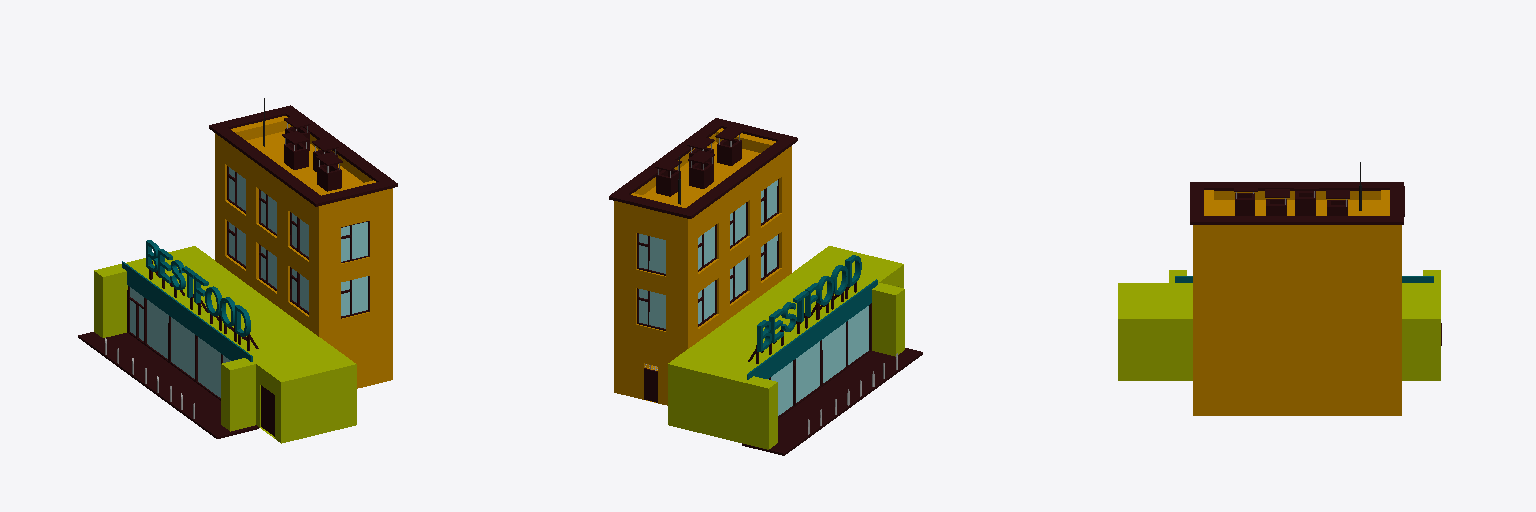
The model's file is comida.obj.
3 renders of one model, left to right at view 1: azimuth 30°, elevation 25°; view 2: azimuth 150°, elevation 25°; view 3: azimuth 270°, elevation 25°, orthographic.
Parts seen in each view (by area): view 1: Box001, Box002, Box082, Plane009, Text001, Box078, Box050, Box051, Box079, Plane010, Plane011, Box052 (+4 smaller); view 2: Box001, Box002, Box082, Plane009, Text001, Box078, Box050, Box051, Plane008, Plane007, Box079, Box053 (+3 smaller); view 3: Box001, Box002, Box051, Box050.
Boxes of the visible parts, x1=… form: Box001: x1=215, y1=116, x2=392, y2=388; Box002: x1=94, y1=246, x2=356, y2=443; Box082: x1=78, y1=332, x2=258, y2=438; Plane009: x1=130, y1=287, x2=230, y2=397; Text001: x1=146, y1=240, x2=250, y2=336; Box078: x1=122, y1=261, x2=252, y2=361; Box050: x1=209, y1=123, x2=325, y2=206; Box051: x1=280, y1=105, x2=397, y2=187; Box079: x1=127, y1=286, x2=222, y2=400; Plane010: x1=341, y1=276, x2=367, y2=315; Plane011: x1=341, y1=222, x2=367, y2=261; Box052: x1=318, y1=181, x2=391, y2=204; Box001: x1=614, y1=128, x2=791, y2=405; Box002: x1=668, y1=246, x2=904, y2=449; Box082: x1=742, y1=348, x2=922, y2=455; Plane009: x1=768, y1=306, x2=868, y2=415; Text001: x1=757, y1=255, x2=861, y2=351; Box078: x1=747, y1=279, x2=877, y2=379; Box050: x1=680, y1=135, x2=797, y2=218; Box051: x1=609, y1=118, x2=726, y2=200; Plane008: x1=639, y1=289, x2=665, y2=328; Plane007: x1=639, y1=234, x2=665, y2=273; Box079: x1=769, y1=303, x2=871, y2=418; Box053: x1=615, y1=194, x2=687, y2=216; Box001: x1=1193, y1=190, x2=1401, y2=415; Box002: x1=1118, y1=270, x2=1440, y2=380; Box051: x1=1190, y1=216, x2=1403, y2=224; Box050: x1=1190, y1=182, x2=1403, y2=190.
Bounding box in the file's own units: 4894 × 5635 × 7056.